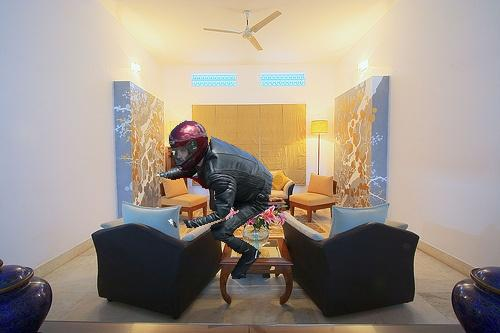tampered: (157, 121, 273, 279)
